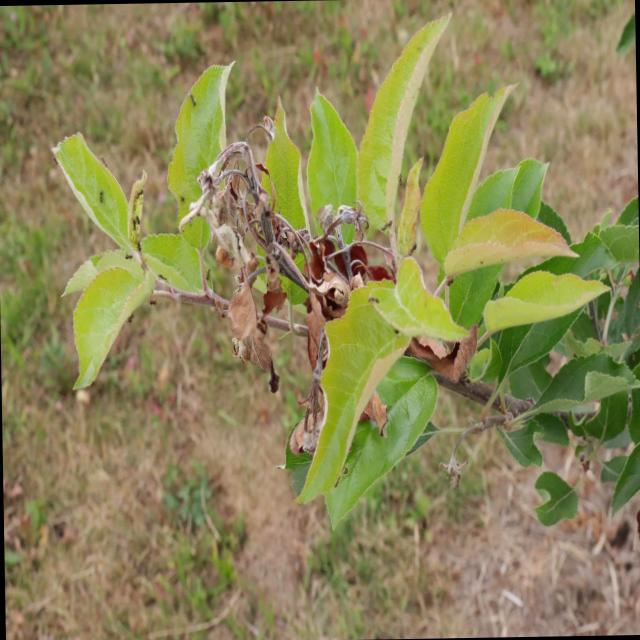-FireBlight-: (198, 160, 338, 397)
